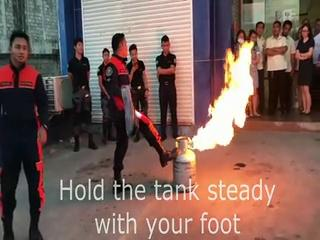Fire: (192, 38, 254, 151)
